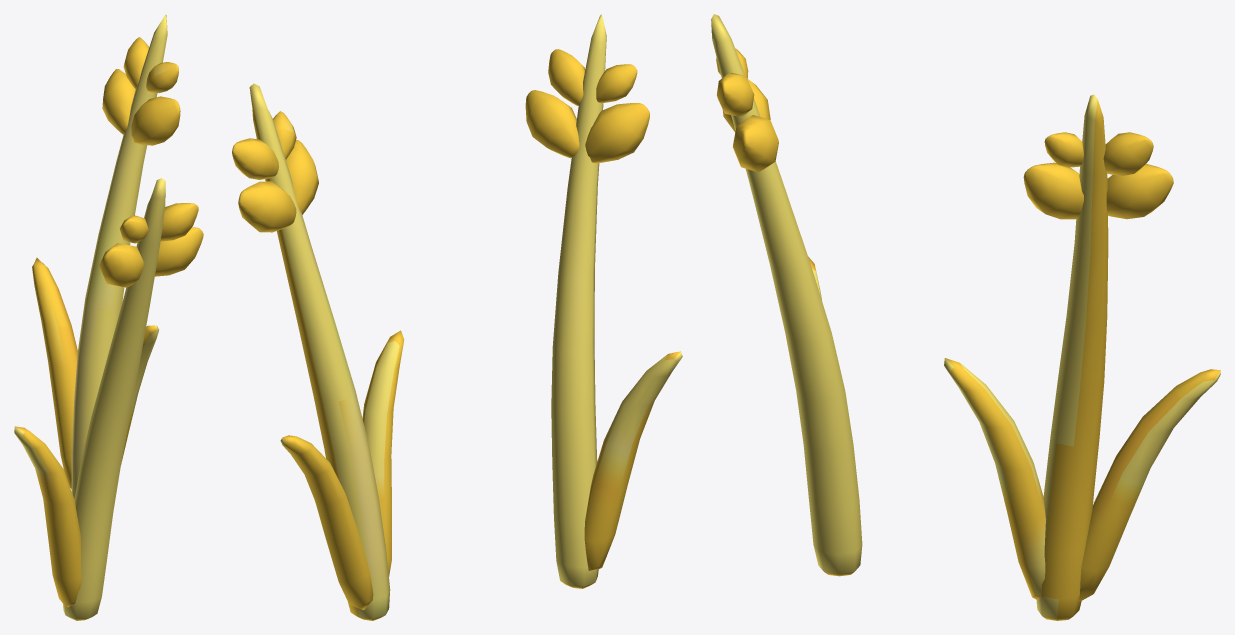
Rendered from wheatStage2.obj.
3 renders of one model, left to right at view 1: azimuth 30°, elevation 25°; view 2: azimuth 150°, elevation 25°; view 3: azimuth 270°, elevation 25°, orthographic. The views are drawn at different scales.
Visible parts, largest first — view 1: WheatStage2; view 2: WheatStage2; view 3: WheatStage2.
Boxes of the visible parts, <box> form: WheatStage2: <box>14,14,203,620</box>; WheatStage2: <box>232,14,682,620</box>; WheatStage2: <box>711,14,1220,620</box>.
Bounding box in the file's own units: 0.3367 × 0.5715 × 0.447.
1 material, 1 textured.
